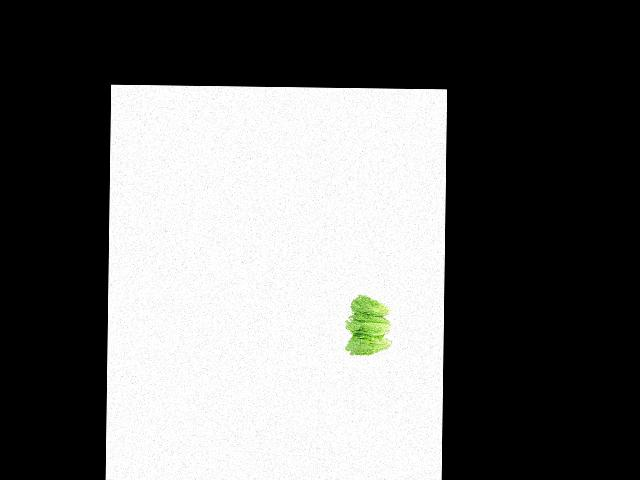lettuce: (348, 294, 401, 320)
